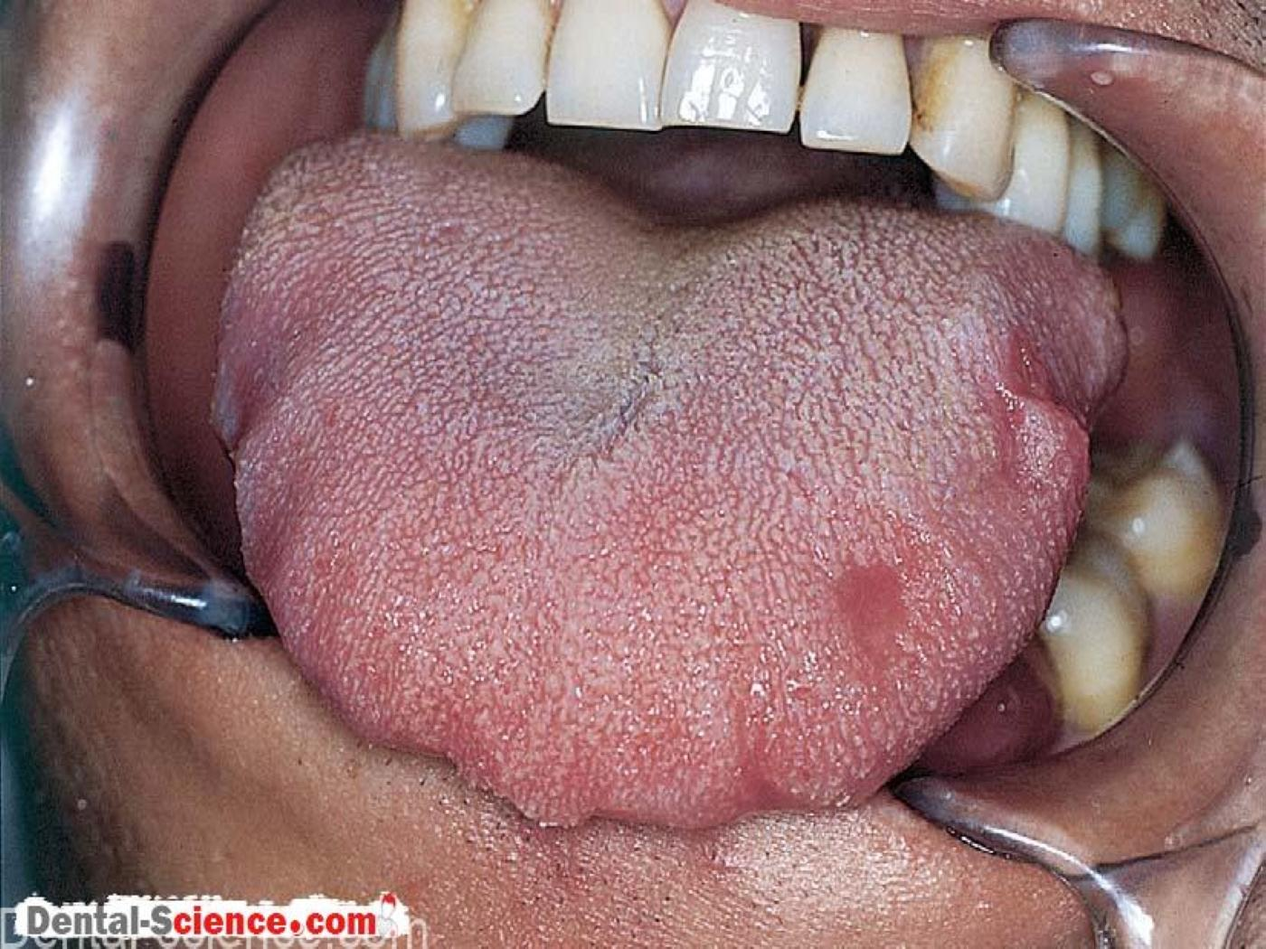baitaishe: (205, 128, 1119, 831)
chihenshe: (208, 334, 305, 609), (974, 332, 1119, 499)
shenquao: (531, 137, 817, 246)
